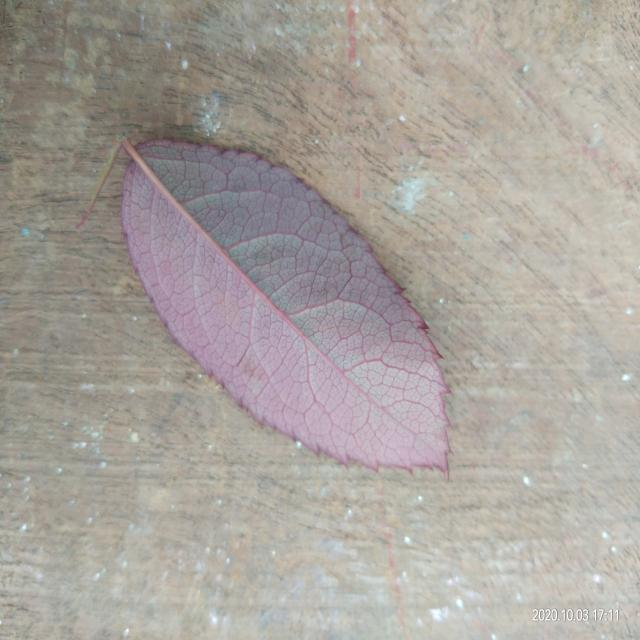rose: (80, 135, 450, 473)
